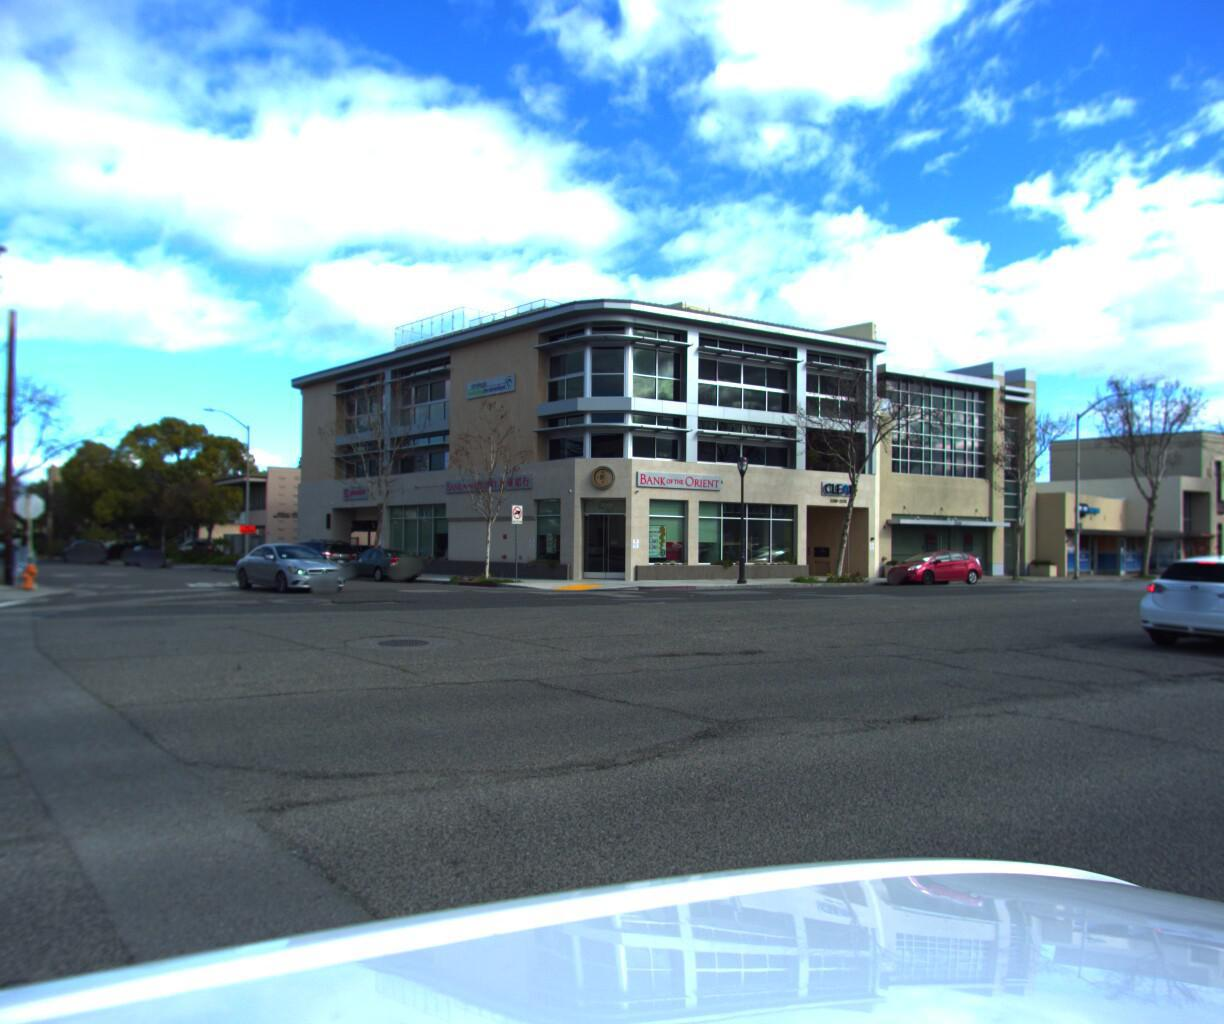car: (1109, 546, 1224, 658), (227, 541, 360, 594), (876, 545, 982, 584), (272, 537, 364, 579), (336, 544, 430, 584), (118, 538, 177, 567), (106, 534, 169, 557), (71, 536, 117, 561)
